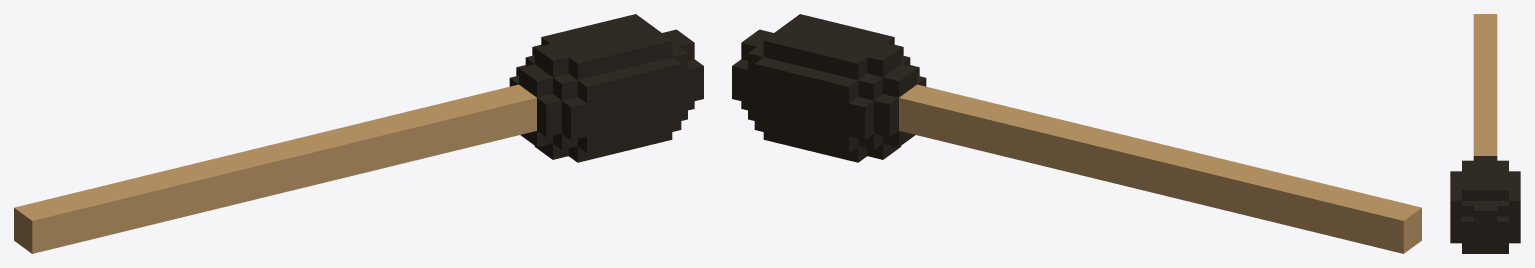
The model's file is torch.glb.
3 renders of one model, left to right at view 1: azimuth 30°, elevation 25°; view 2: azimuth 150°, elevation 25°; view 3: azimuth 270°, elevation 25°, orthographic. The views are drawn at different scales.
Visible parts, largest first — view 1: torch:torch; view 2: torch:torch; view 3: torch:torch.
Part boxes in pixels (x1,y1,x2,y2): torch:torch: (14,14,703,253); torch:torch: (732,14,1421,253); torch:torch: (1450,14,1520,253).
Bounding box in the file's own units: 0.42 × 0.06 × 0.06.
